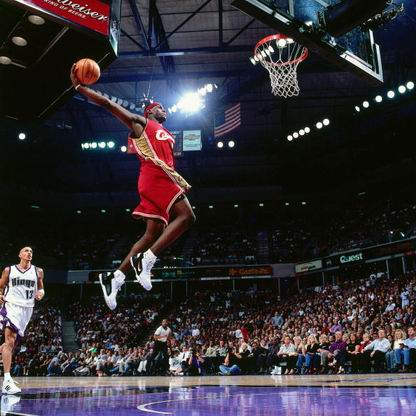basket: (245, 28, 312, 104)
dunk: (61, 50, 200, 314)
